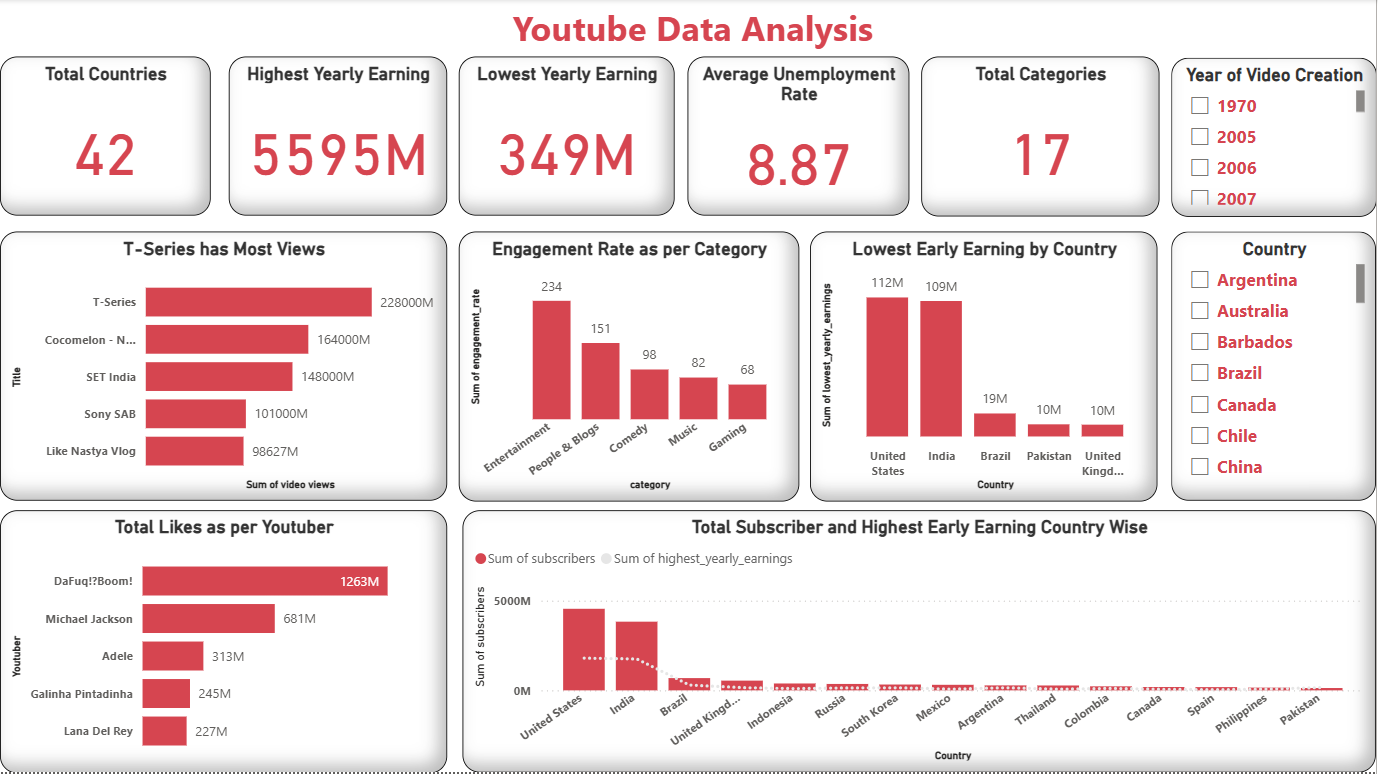

The dashboard page shown, as its layout file describes it:
{"tool":"powerbi","page":{"name":"Page 1","canvas":[1280,720],"ordinal":0},"visuals":[{"type":"textbox","box":[9.6,0,1270.7,53.5],"z":0},{"type":"card","title":"Total Countries","fields":{"Values":["youtube_data.Country"]},"box":[0,53.8,195.7,148],"z":1000},{"type":"card","title":"Highest Yearly Earning","fields":{"Values":["youtube_data.highest_yearly_earnings"]},"box":[212.8,53.8,203,148],"z":2000},{"type":"card","title":"Lowest Yearly Earning","fields":{"Values":["youtube_data.lowest_yearly_earnings"]},"box":[426.8,53.8,200.5,148],"z":3000},{"type":"card","title":"Average Unemployment Rate","fields":{"Values":["youtube_data.Unemployment rate"]},"box":[639.5,53.8,206.7,148],"z":4000},{"type":"card","title":"Total Categories","fields":{"Values":["youtube_data.category"]},"box":[857.2,53.8,221.3,149.2],"z":5000},{"type":"slicer","title":"Year of Video Creation","fields":{"Values":["youtube_data.created_year"]},"box":[1089,54.2,191,148.2],"z":6000},{"type":"barChart","title":"T-Series has Most Views","fields":{"Y":["youtube_data.video views"],"Category":["youtube_data.Title"]},"box":[0,216.4,415.8,250.7],"z":7000},{"type":"barChart","title":"Total Likes as per Youtuber","fields":{"Category":["youtube_data (2).Youtuber"],"Y":["youtube_data (2).Total_Likes"]},"box":[0,475.7,415.8,244.6],"z":8000},{"type":"slicer","title":"Country","fields":{"Values":["youtube_data.Country"]},"box":[1089.5,216.4,190.8,250.7],"z":9000},{"type":"columnChart","title":"Engagement Rate as per Category","fields":{"Category":["youtube_data.category"],"Y":["youtube_data.engagement_rate"]},"box":[426.2,216.7,316.4,250.9],"z":10000},{"type":"lineStackedColumnComboChart","title":"Total Subscriber and Highest Early Earning Country Wise","fields":{"Y":["youtube_data.subscribers"],"Category":["youtube_data.Country"],"Y2":["youtube_data.highest_yearly_earnings"]},"box":[430.5,476.1,849.5,243.7],"z":11000},{"type":"columnChart","title":"Lowest Early Earning by Country","fields":{"Y":["youtube_data.lowest_yearly_earnings"],"Category":["youtube_data.Country"]},"box":[754,216.7,323.6,250.9],"z":12000}]}

Visuals, with their boxes in screenshot pixels (x1, y1, x2, y2), scaled from the page's 1280x720 canvas onto the 1378x774 screenshot:
textbox: x1=10 y1=0 x2=1377 y2=58
"Total Countries" card: x1=0 y1=58 x2=211 y2=217
"Highest Yearly Earning" card: x1=229 y1=58 x2=448 y2=217
"Lowest Yearly Earning" card: x1=459 y1=58 x2=675 y2=217
"Average Unemployment Rate" card: x1=688 y1=58 x2=911 y2=217
"Total Categories" card: x1=923 y1=58 x2=1161 y2=218
"Year of Video Creation" slicer: x1=1172 y1=58 x2=1377 y2=218
"T-Series has Most Views" barChart: x1=0 y1=233 x2=448 y2=502
"Total Likes as per Youtuber" barChart: x1=0 y1=511 x2=448 y2=773
"Country" slicer: x1=1173 y1=233 x2=1377 y2=502
"Engagement Rate as per Category" columnChart: x1=459 y1=233 x2=799 y2=503
"Total Subscriber and Highest Early Earning Country Wise" lineStackedColumnComboChart: x1=463 y1=512 x2=1377 y2=773
"Lowest Early Earning by Country" columnChart: x1=812 y1=233 x2=1160 y2=503
